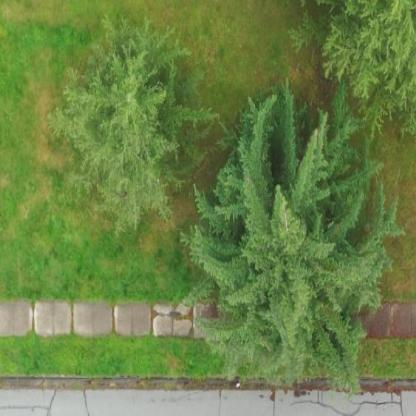Coniferous Tree: (182, 91, 396, 395), (55, 31, 199, 204), (272, 0, 416, 144)
